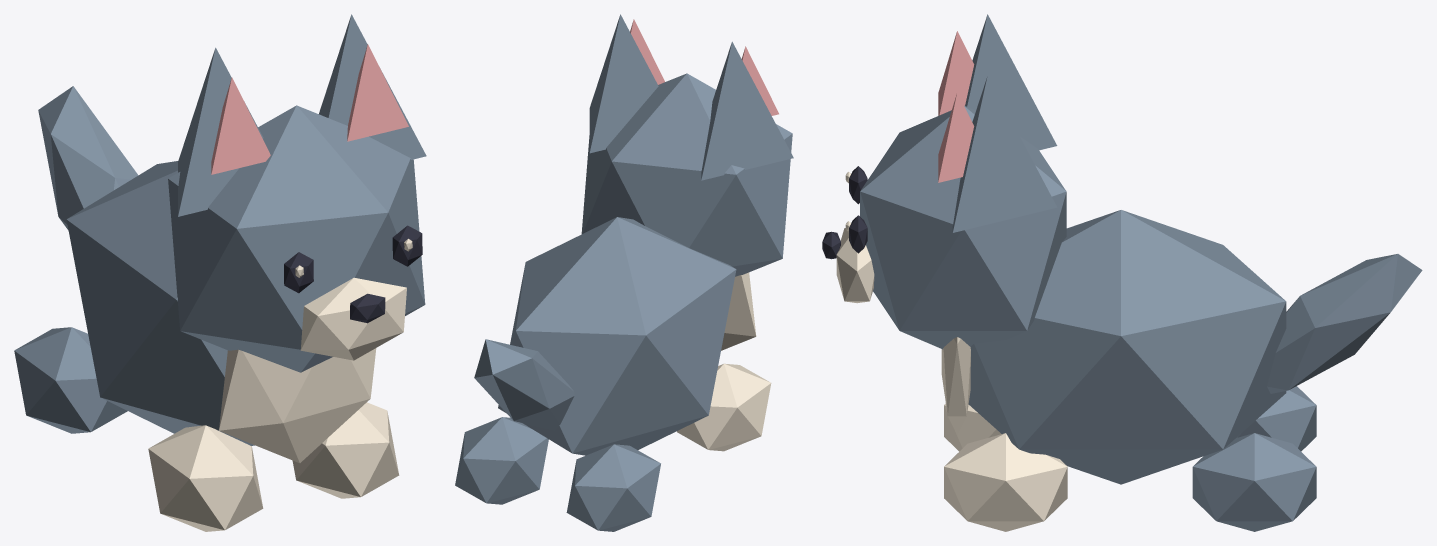
The model's file is pet_husky.glb.
The picture shows the model from 3 angles, left to right: view 1: azimuth 30°, elevation 25°; view 2: azimuth 150°, elevation 25°; view 3: azimuth 270°, elevation 25°; orthographic projection. The views are drawn at different scales.
Visible parts, largest first — view 1: head, body, white_chest, paw, back_paw, tail_bob, paw.001, muzzle, ear, ear.001, ear_inner.001, ear_inner (+3 smaller); view 2: body, head, ear, back_paw, back_paw.001, tail_bob, ear.001, paw, white_chest, ear_inner, ear_inner.001; view 3: body, head, tail_bob, back_paw.001, paw.001, ear.001, ear, back_paw, white_chest, ear_inner.001, muzzle, ear_inner (+1 smaller).
Boxes of the visible parts, box(x1,y1,x2,y2) form: head: box(168, 105, 425, 372); body: box(66, 161, 254, 445); white_chest: box(219, 348, 376, 463); paw: box(148, 425, 263, 531); back_paw: box(14, 327, 127, 433); tail_bob: box(38, 86, 138, 230); paw.001: box(292, 402, 399, 498); muzzle: box(300, 277, 406, 360); ear: box(178, 47, 263, 216); ear.001: box(319, 14, 426, 159); ear_inner.001: box(347, 44, 408, 141); ear_inner: box(211, 77, 270, 174); body: box(498, 217, 736, 455); head: box(581, 73, 792, 276); ear: box(701, 41, 793, 180); back_paw: box(566, 444, 660, 531); back_paw.001: box(455, 417, 548, 504); tail_bob: box(474, 339, 574, 430); ear.001: box(589, 14, 658, 153); paw: box(677, 363, 771, 451); white_chest: box(721, 272, 756, 350); ear_inner: box(741, 46, 778, 115); ear_inner.001: box(630, 19, 664, 84); body: box(968, 210, 1286, 484); head: box(860, 105, 1066, 349); tail_bob: box(1267, 254, 1422, 393); back_paw.001: box(1192, 433, 1316, 531); paw.001: box(944, 433, 1067, 531); ear.001: box(952, 76, 1057, 232); ear: box(965, 14, 1057, 150); back_paw: box(1236, 386, 1316, 451); white_chest: box(941, 337, 970, 434); ear_inner.001: box(938, 92, 974, 182); muzzle: box(836, 228, 874, 303); ear_inner: box(938, 31, 974, 115).
Size of the model in its own units: 0.4392 by 0.83 by 0.9891.
